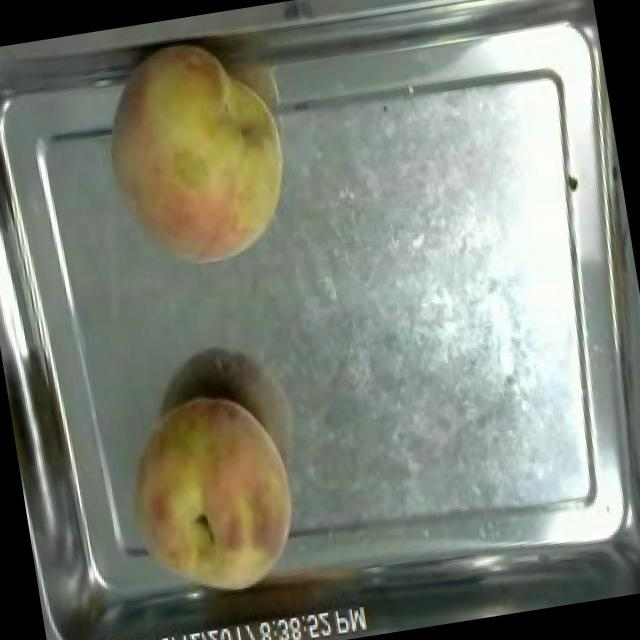Fruit: (90, 27, 310, 286), (107, 376, 316, 612)
